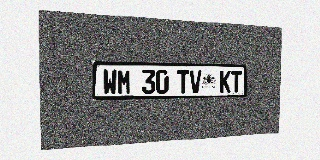0: (156, 69, 168, 94)
3: (142, 69, 155, 94)
K: (220, 70, 231, 93)
M: (117, 69, 131, 94)
T: (177, 70, 189, 93), (231, 70, 242, 93)
V: (190, 70, 201, 93)
W: (103, 69, 117, 95)
